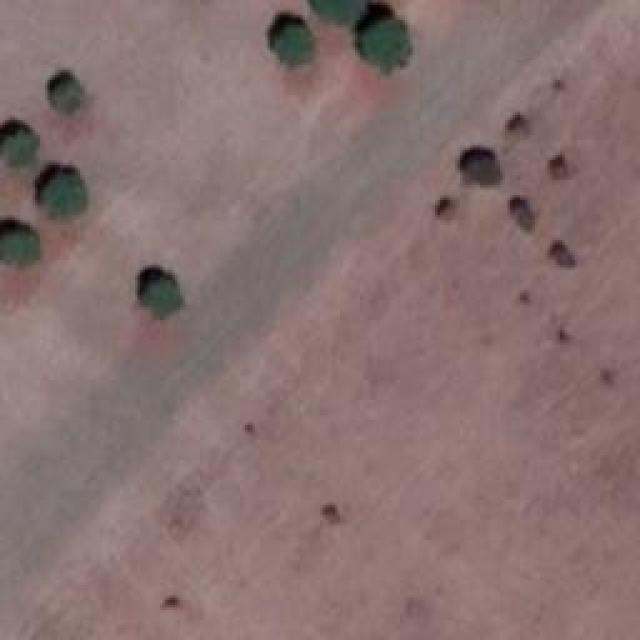Tree: (362, 12, 410, 70), (138, 270, 178, 320), (45, 173, 83, 218), (275, 20, 313, 65), (455, 147, 500, 185), (0, 130, 40, 170), (48, 73, 83, 113), (0, 228, 35, 263), (312, 0, 367, 22)
